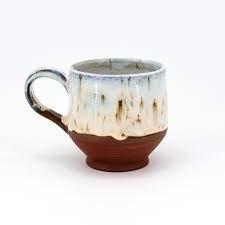mug: (21, 52, 176, 173)
